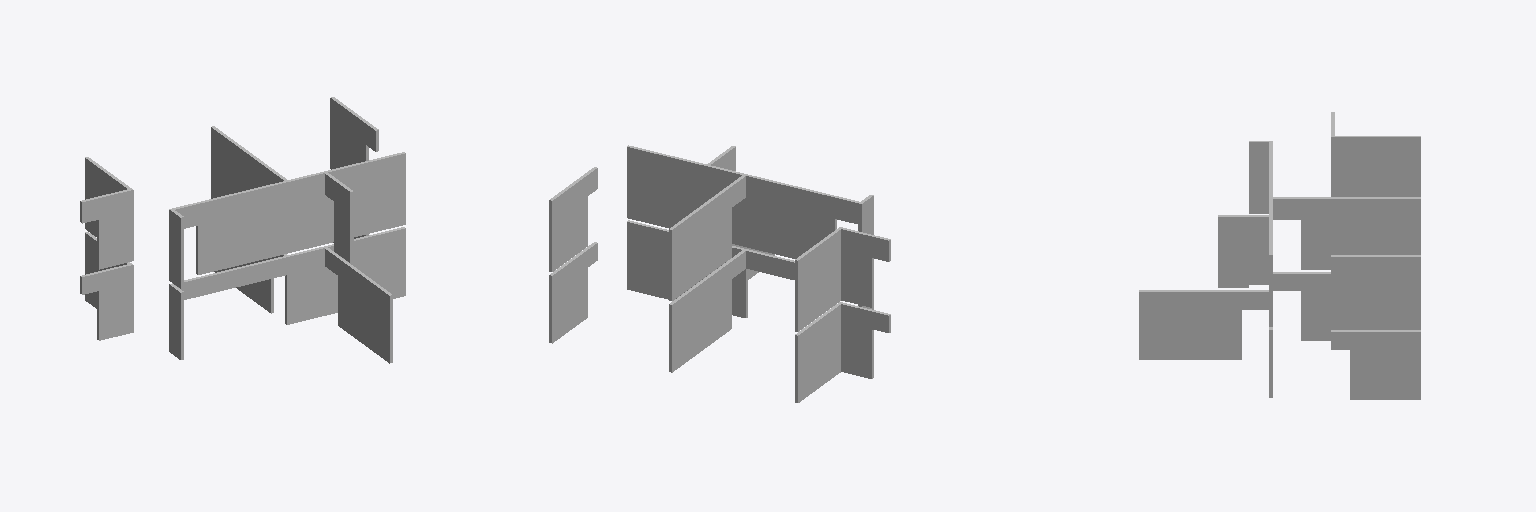
The picture shows the model from 3 angles: view 1: azimuth 30°, elevation 25°; view 2: azimuth 150°, elevation 25°; view 3: azimuth 270°, elevation 25°; orthographic projection.
Parts seen in each view (by area): view 1: MH1_OBJ_04_MH1_OBJ_04.001; view 2: MH1_OBJ_04_MH1_OBJ_04.001; view 3: MH1_OBJ_04_MH1_OBJ_04.001.
Boxes of the visible parts, <box> form: MH1_OBJ_04_MH1_OBJ_04.001: <box>80,97,405,363</box>; MH1_OBJ_04_MH1_OBJ_04.001: <box>549,145,890,402</box>; MH1_OBJ_04_MH1_OBJ_04.001: <box>1139,112,1420,399</box>.
Bounding box in the file's own units: 103 × 47.31 × 84.77.